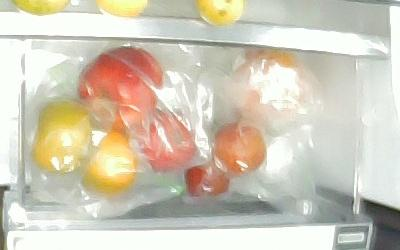apple_vinyl: (75, 44, 164, 132), (140, 112, 201, 174)
grapefruit_vinyl: (229, 50, 308, 123)
persimmon_vinyl: (30, 99, 91, 174), (78, 128, 138, 194)
prune_vinyl: (212, 123, 266, 175), (184, 161, 231, 197)
